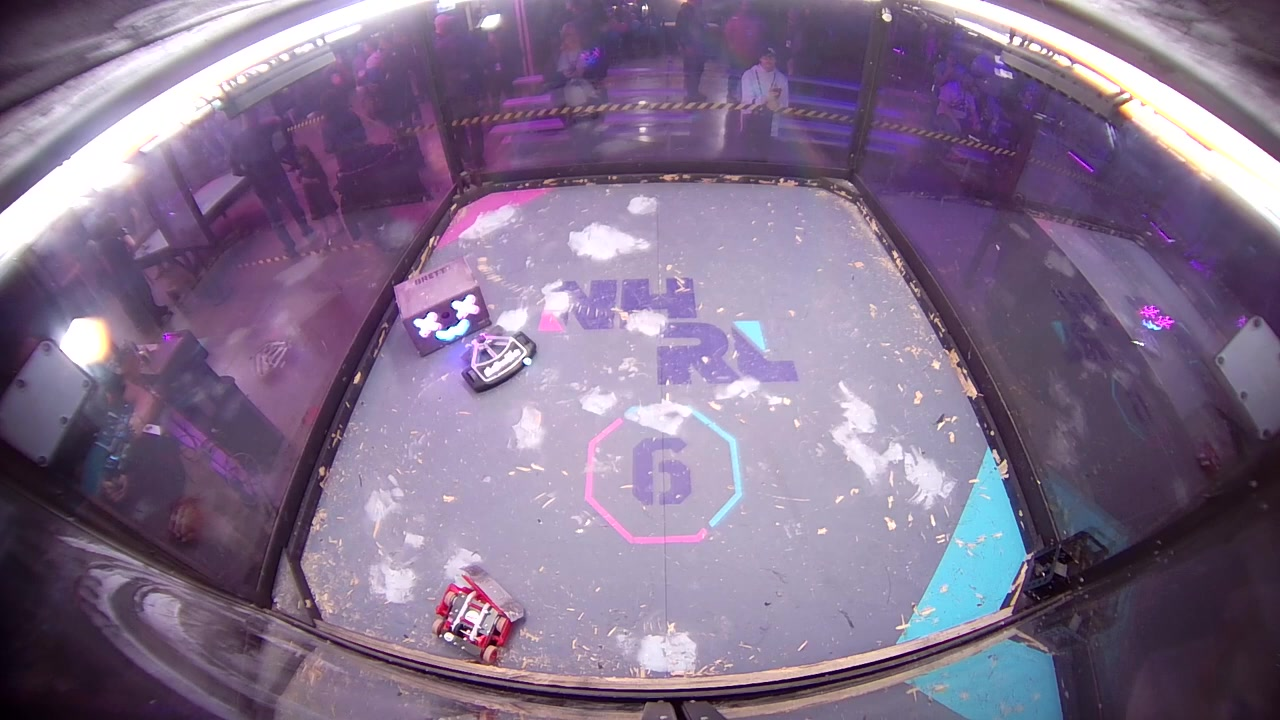combatbot: (431, 563, 526, 659), (460, 328, 536, 392)
housebot: (395, 260, 487, 358)
